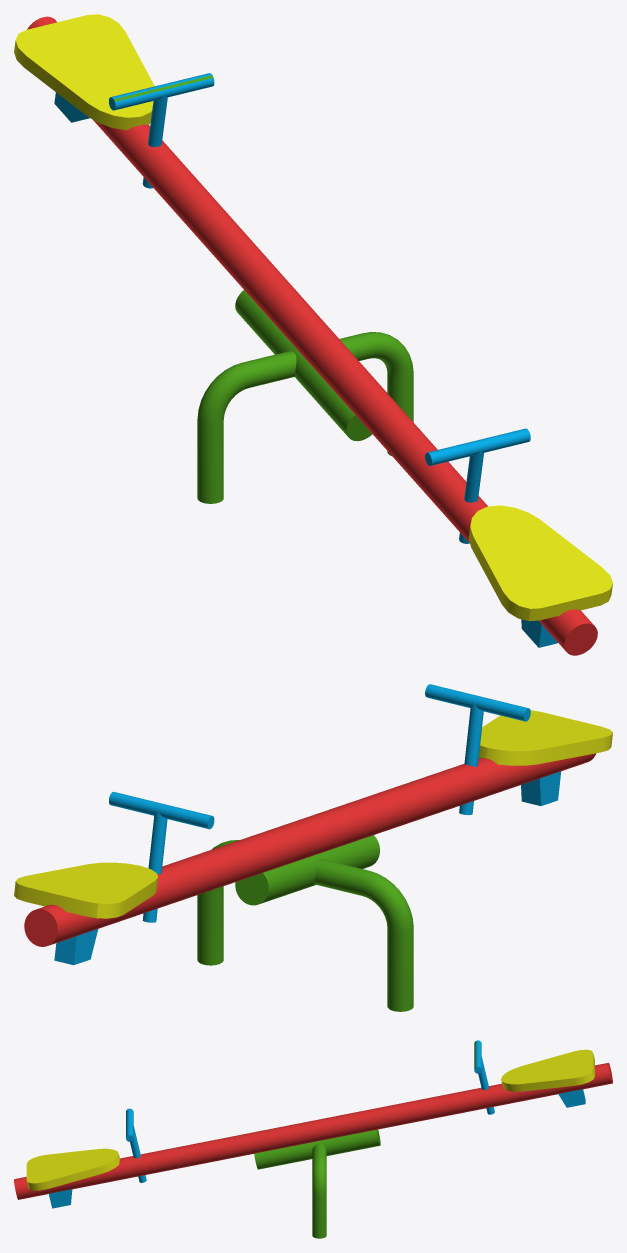
File: jungkat jungkit.fbx
The picture shows the model from 3 angles, top to bottom: view 1: azimuth 30°, elevation 25°; view 2: azimuth 150°, elevation 25°; view 3: azimuth 270°, elevation 25°; orthographic projection. The views are drawn at different scales.
Parts seen in each view (by area): view 1: jungkatjungkit; view 2: jungkatjungkit; view 3: jungkatjungkit.
Boxes of the visible parts, bbox=[...] form: jungkatjungkit: bbox=[14, 14, 612, 655]; jungkatjungkit: bbox=[14, 684, 612, 1011]; jungkatjungkit: bbox=[14, 1040, 612, 1238].
Bounding box in the file's own units: 176 × 224 × 778.
